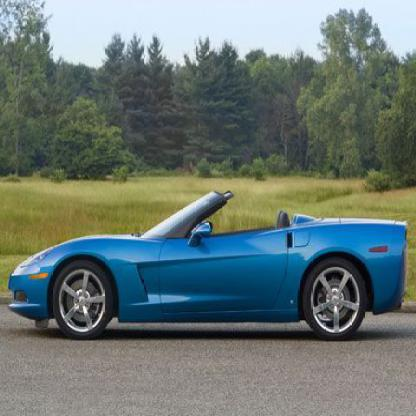Vehicle: (10, 192, 409, 341)
